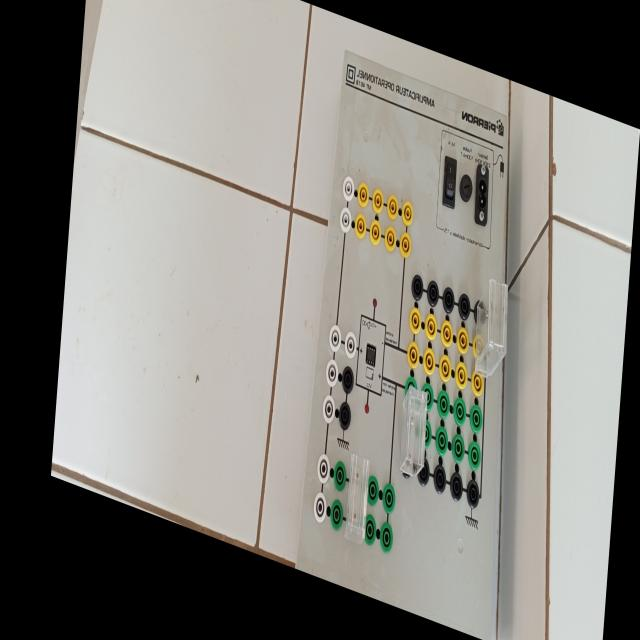Operational Amplifier Board: (282, 26, 527, 640)
